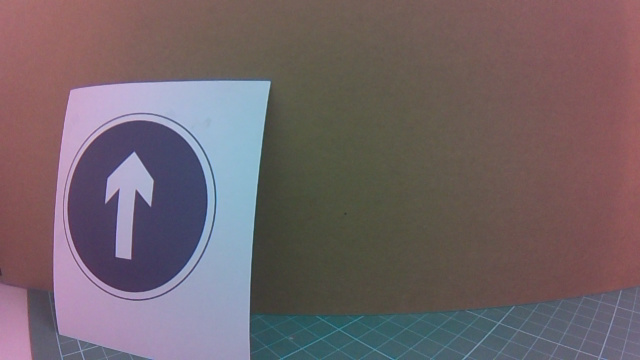forward: (70, 97, 253, 303)
